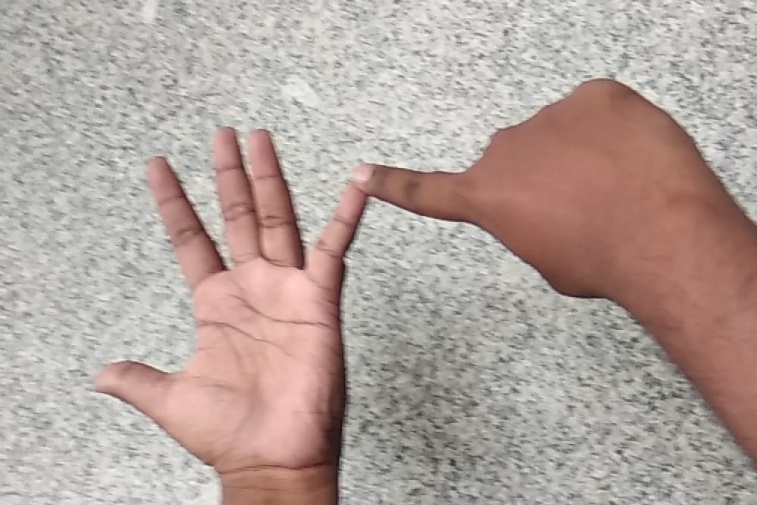i: (93, 104, 524, 449)
